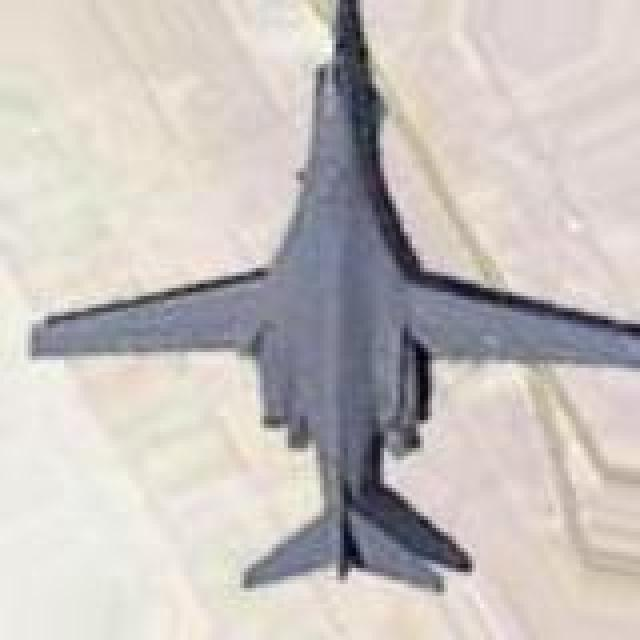B-1_TopDown: (24, 0, 636, 596)
